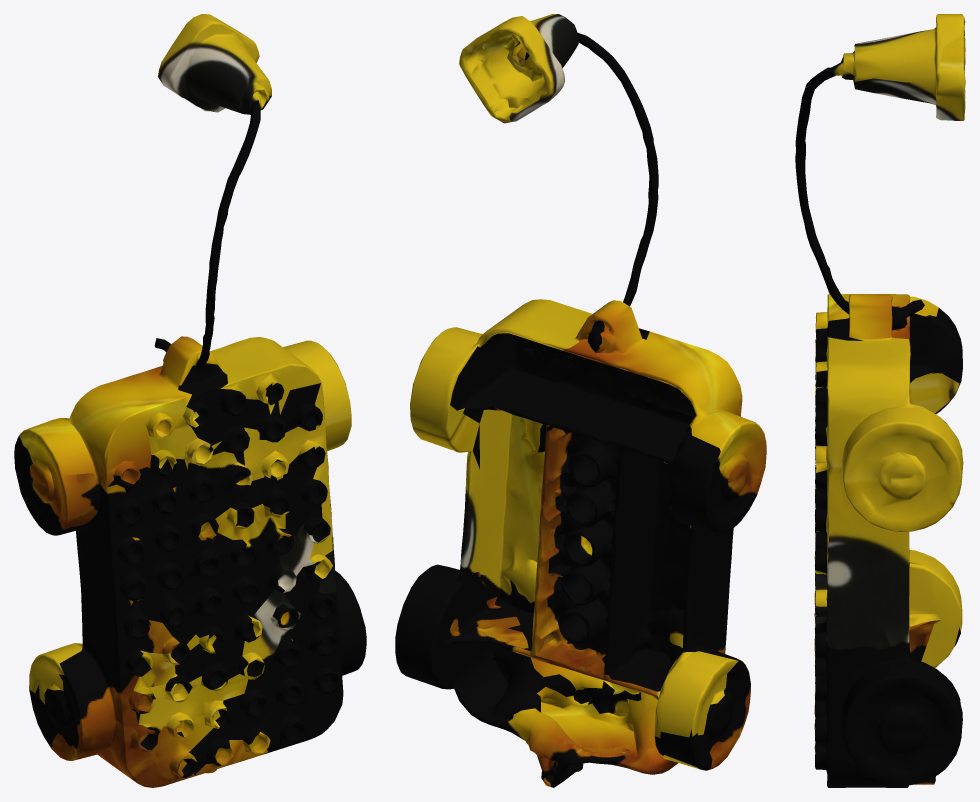
The picture shows the model from 3 angles, left to right: view 1: azimuth 30°, elevation 25°; view 2: azimuth 150°, elevation 25°; view 3: azimuth 270°, elevation 25°; orthographic projection. The views are drawn at different scales.
Size of the model in its own units: 0.1336 by 0.3041 by 0.06.
